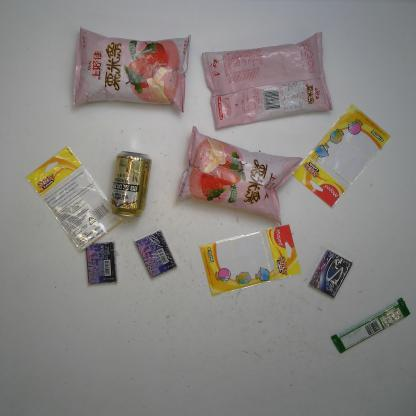Alcohol: (108, 149, 154, 217)
Chocolate: (330, 298, 412, 354)
Gum: (307, 249, 352, 300), (134, 229, 177, 280), (85, 240, 118, 285)
Puffed Food: (200, 31, 335, 132), (174, 124, 304, 226), (73, 25, 191, 115)
Stationery: (288, 102, 394, 209), (26, 145, 124, 254), (197, 224, 302, 299)
